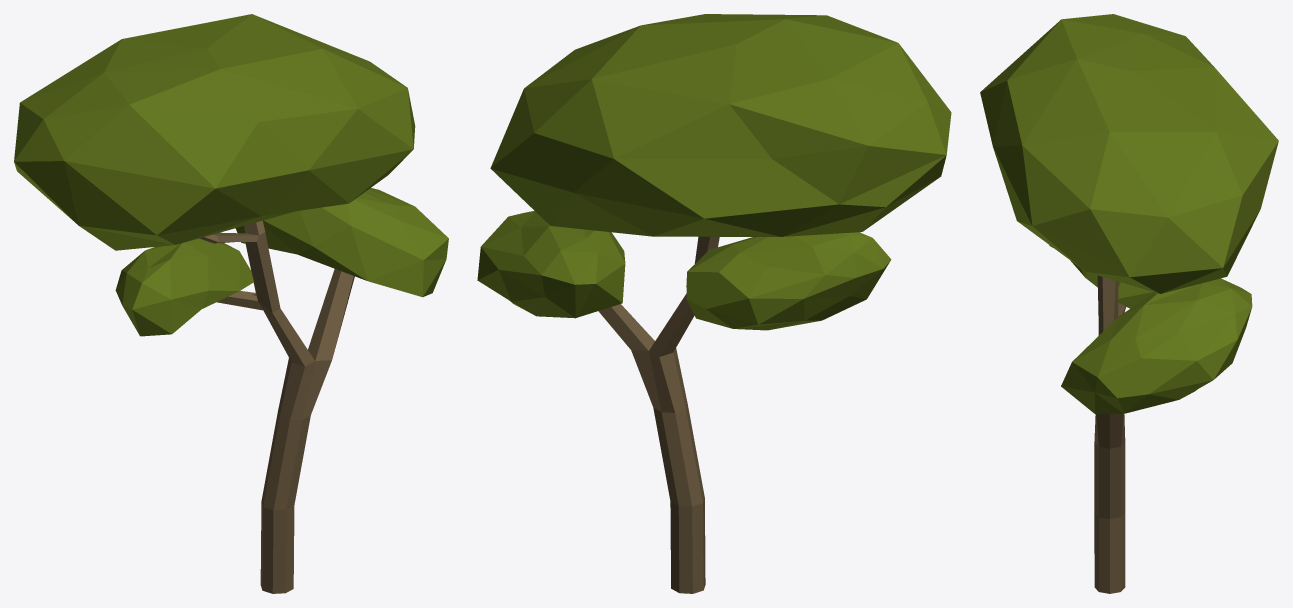
Rendered from roman_tree_pine_2.fbx.
3 views of the same model, side by side, from view 1: azimuth 30°, elevation 25°; view 2: azimuth 150°, elevation 25°; view 3: azimuth 270°, elevation 25° (orthographic). The views are drawn at different scales.
Visible parts, largest first — view 1: Cylinder.023; view 2: Cylinder.023; view 3: Cylinder.023.
Part boxes in pixels (bbox=[...]): Cylinder.023: bbox=[14, 14, 448, 593]; Cylinder.023: bbox=[477, 14, 951, 593]; Cylinder.023: bbox=[980, 14, 1278, 593].
Bounding box in the file's own units: 5.21 × 6.39 × 3.49.
